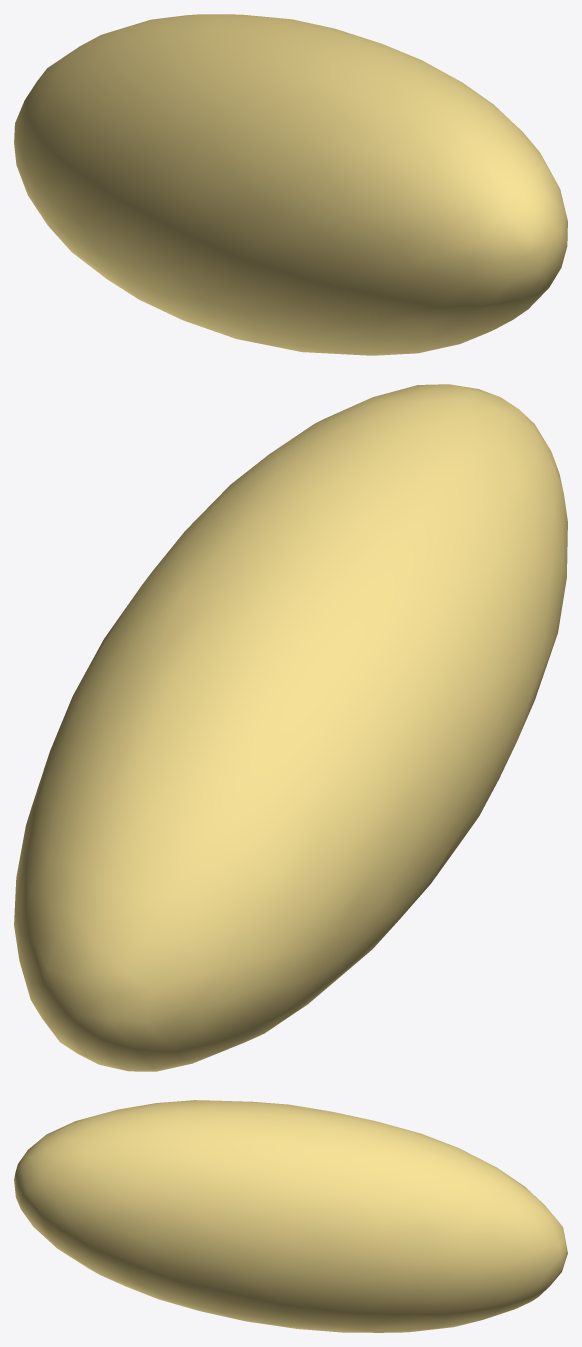
File: fma223176_mm2996m.glb
3 renders of one model, top to bottom at view 1: azimuth 30°, elevation 25°; view 2: azimuth 150°, elevation 25°; view 3: azimuth 270°, elevation 25°, orthographic. The views are drawn at different scales.
Parts seen in each view (by area): view 1: FMA223176_MM2996M; view 2: FMA223176_MM2996M; view 3: FMA223176_MM2996M.
Boxes of the visible parts, x1,y1,x2,y2 form: FMA223176_MM2996M: (14, 14, 567, 355); FMA223176_MM2996M: (14, 384, 567, 1071); FMA223176_MM2996M: (14, 1100, 567, 1332).
Bounding box in the file's own units: 0.00585 × 0.0063 × 0.0142.
